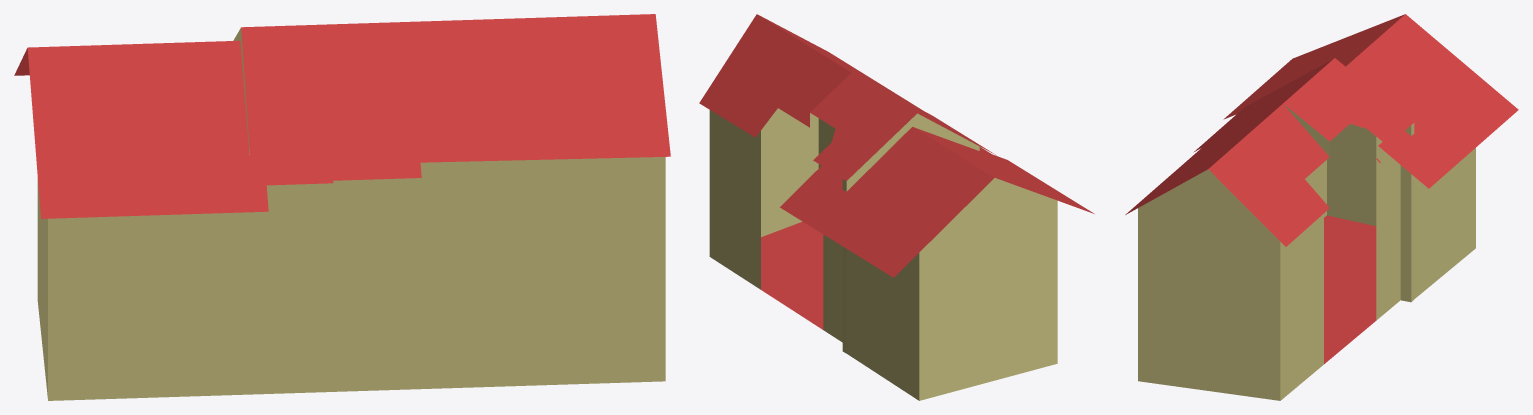
The picture shows the model from 3 angles, left to right: view 1: azimuth 30°, elevation 25°; view 2: azimuth 150°, elevation 25°; view 3: azimuth 270°, elevation 25°; orthographic projection. The views are drawn at different scales.
Size of the model in its own units: 27.39 by 22.81 by 14.39.
